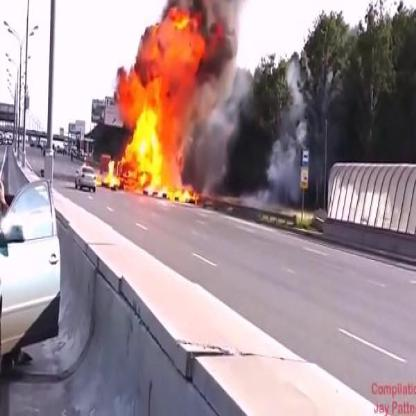fire: (103, 3, 225, 206)
